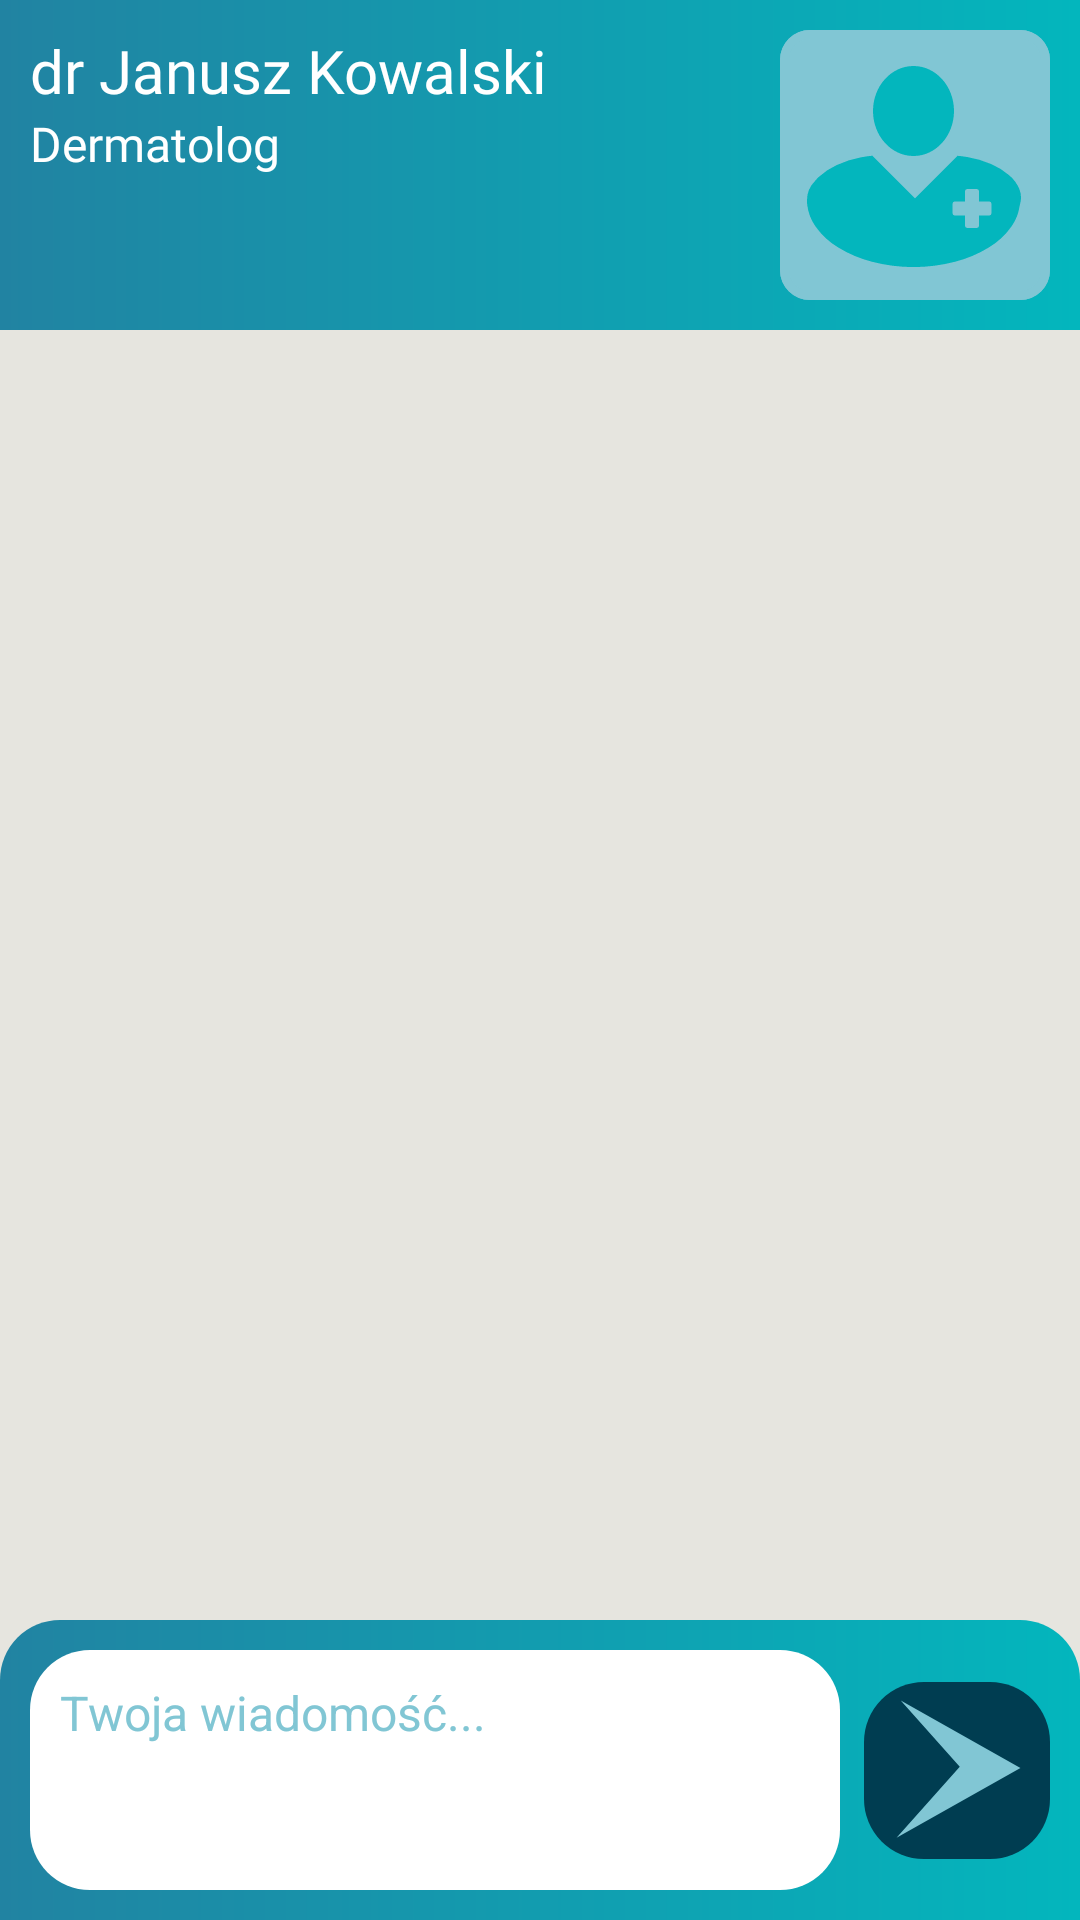

Icons on this 1080 x 1920 Android screen, each with its box as {"x1": x1, "y1": y1, "x2": x2, "y2": y2}:
profile lagoon: {"x1": 780, "y1": 30, "x2": 1050, "y2": 300}
send: {"x1": 864, "y1": 1682, "x2": 1050, "y2": 1859}
